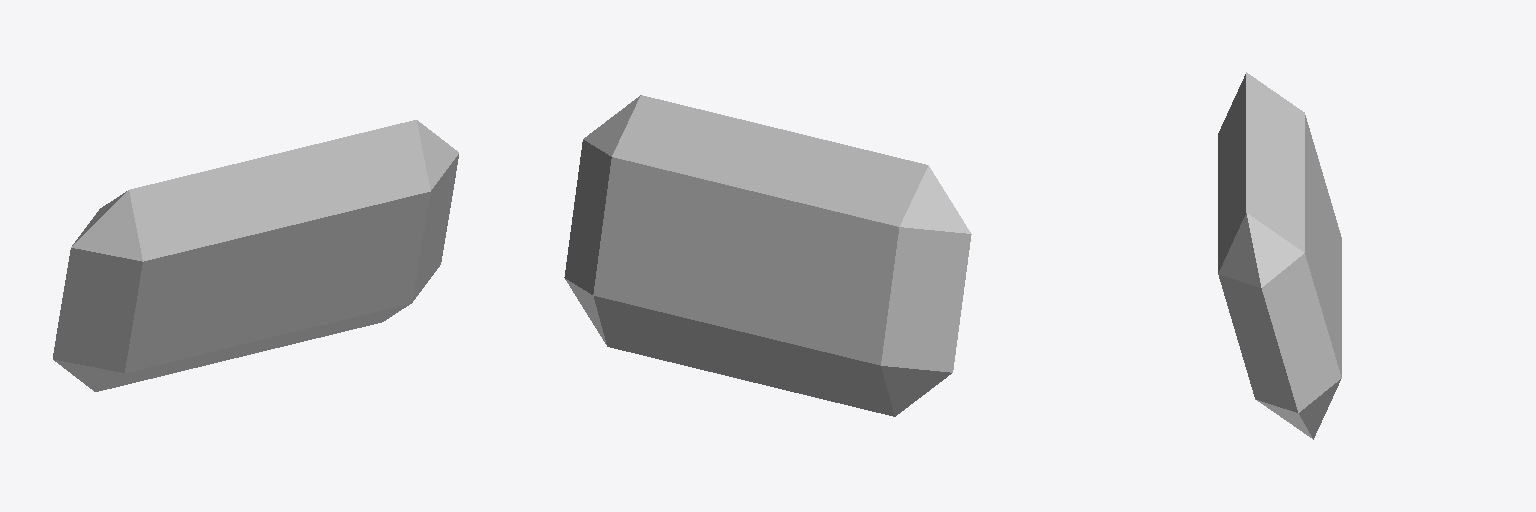
Rendered from pillowBlue.obj.
3 renders of one model, left to right at view 1: azimuth 30°, elevation 25°; view 2: azimuth 150°, elevation 25°; view 3: azimuth 270°, elevation 25°, orthographic.
Parts seen in each view (by area): view 1: pillowBlue; view 2: pillowBlue; view 3: pillowBlue.
Part boxes in pixels (x1,y1,x2,y2): pillowBlue: (53, 120, 458, 391); pillowBlue: (564, 95, 971, 416); pillowBlue: (1218, 72, 1341, 439).
Size of the model in its own units: 0.23 by 0.1285 by 0.0634.